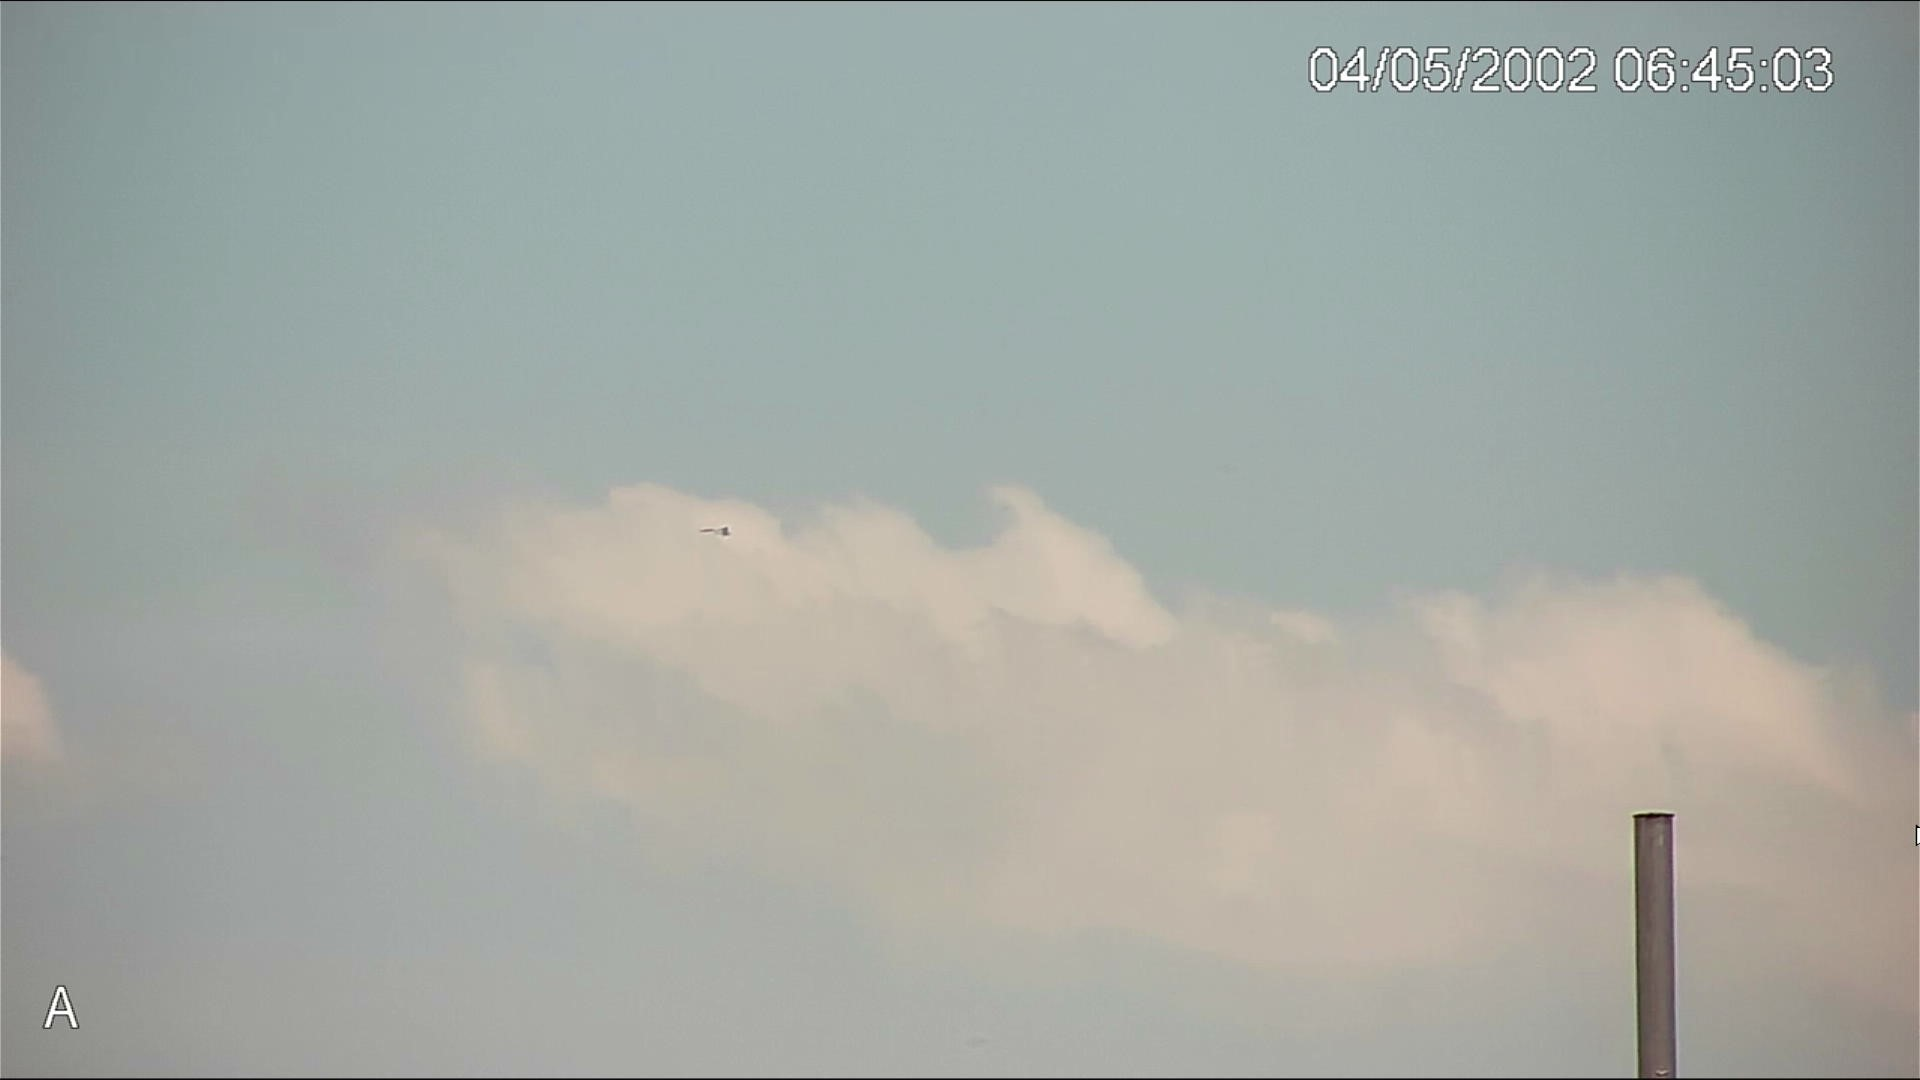SU_30: (696, 522, 731, 537)
